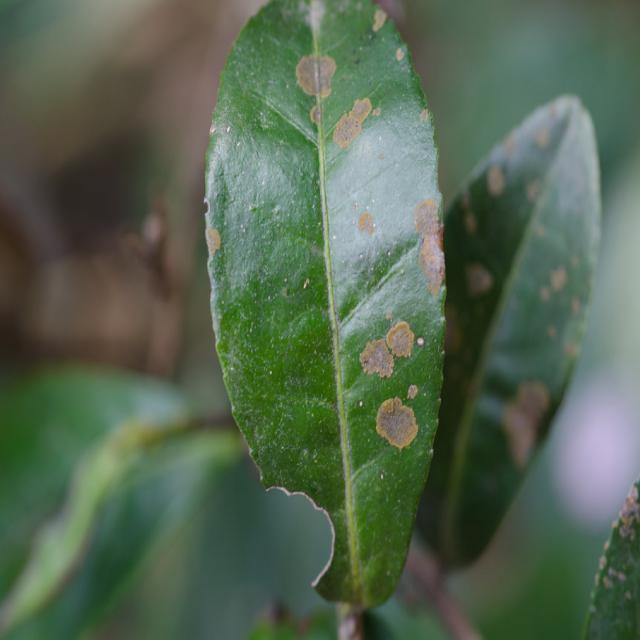Tea algae leaf spot: (277, 29, 447, 469)
